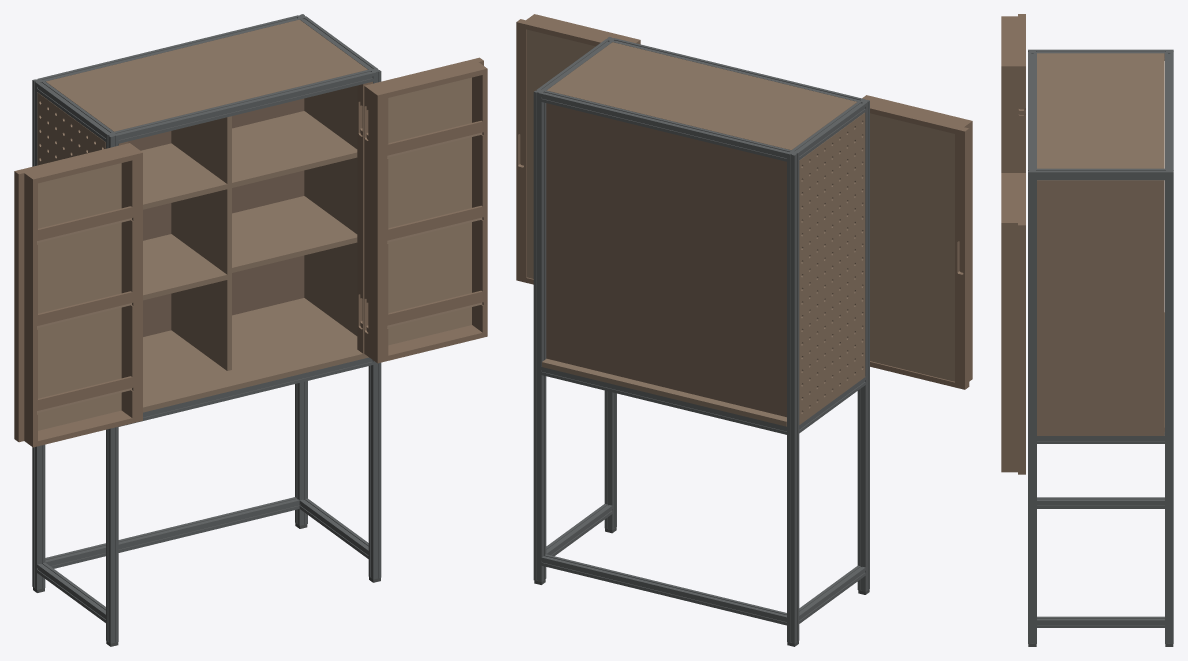
The model's file is open.glb.
3 renders of one model, left to right at view 1: azimuth 30°, elevation 25°; view 2: azimuth 150°, elevation 25°; view 3: azimuth 270°, elevation 25°, orthographic. The views are drawn at different scales.
Visible parts, largest first — view 1: R-front-panel, L-front-panel, B01-top-inset, B00-bottom-notched, B05-divider, B03-right-side, B04-back, R-hinge-stile, L-meeting-stile, B21-right-shelf, B20-right-shelf, L-hinge-stile (+26 smaller); view 2: B04-back, L-front-panel, B02-left-pegboard, B01-top-inset, Post-970-470, Post-0-470, L-meeting-stile, Post-0-0, R-front-panel, Beam-top-rear, Beam-lower-rear, R-meeting-stile (+9 smaller); view 3: B03-right-side, B01-top-inset, R-meeting-stile, Post-970-470, Post-970-0, L-hinge-stile, Beam-top-side-970, Beam-lower-side-0, Beam-lower-side-970, L-top-rail, R-top-rail, Beam-top-rear (+3 smaller).
Part boxes in pixels (x1=…): R-front-panel: x1=387, y1=77, x2=471, y2=345; L-front-panel: x1=37, y1=163, x2=121, y2=430; B01-top-inset: x1=46, y1=19, x2=367, y2=131; B00-bottom-notched: x1=143, y1=298, x2=368, y2=412; B05-divider: x1=171, y1=116, x2=231, y2=370; B03-right-side: x1=304, y1=85, x2=357, y2=335; B04-back: x1=128, y1=98, x2=304, y2=336; R-hinge-stile: x1=364, y1=83, x2=388, y2=363; L-meeting-stile: x1=14, y1=168, x2=37, y2=447; B21-right-shelf: x1=232, y1=111, x2=357, y2=187; B20-right-shelf: x1=232, y1=196, x2=357, y2=272; L-hinge-stile: x1=119, y1=143, x2=142, y2=423; B04-back: x1=546, y1=103, x2=786, y2=417; L-front-panel: x1=870, y1=113, x2=954, y2=381; B02-left-pegboard: x1=799, y1=112, x2=865, y2=424; B01-top-inset: x1=547, y1=42, x2=856, y2=150; Post-970-470: x1=533, y1=88, x2=546, y2=581; Post-0-470: x1=787, y1=150, x2=799, y2=643; L-meeting-stile: x1=955, y1=120, x2=972, y2=389; Post-0-0: x1=857, y1=98, x2=869, y2=591; R-front-panel: x1=527, y1=29, x2=595, y2=278; Beam-top-rear: x1=541, y1=90, x2=790, y2=161; Beam-lower-rear: x1=541, y1=554, x2=786, y2=625; R-meeting-stile: x1=516, y1=14, x2=538, y2=282; B03-right-side: x1=1037, y1=180, x2=1164, y2=435; B01-top-inset: x1=1037, y1=53, x2=1164, y2=168; R-meeting-stile: x1=1001, y1=220, x2=1025, y2=474; Post-970-470: x1=1165, y1=168, x2=1173, y2=643; Post-970-0: x1=1028, y1=168, x2=1036, y2=643; L-hinge-stile: x1=1001, y1=61, x2=1025, y2=172; Beam-top-side-970: x1=1037, y1=168, x2=1164, y2=180; Beam-lower-side-0: x1=1037, y1=497, x2=1164, y2=508; Beam-lower-side-970: x1=1037, y1=616, x2=1164, y2=627; L-top-rail: x1=1001, y1=18, x2=1025, y2=61; R-top-rail: x1=1001, y1=178, x2=1025, y2=220; Beam-top-rear: x1=1165, y1=53, x2=1173, y2=168.
Size of the model in its own units: 1.72 by 1.8 by 0.592.
